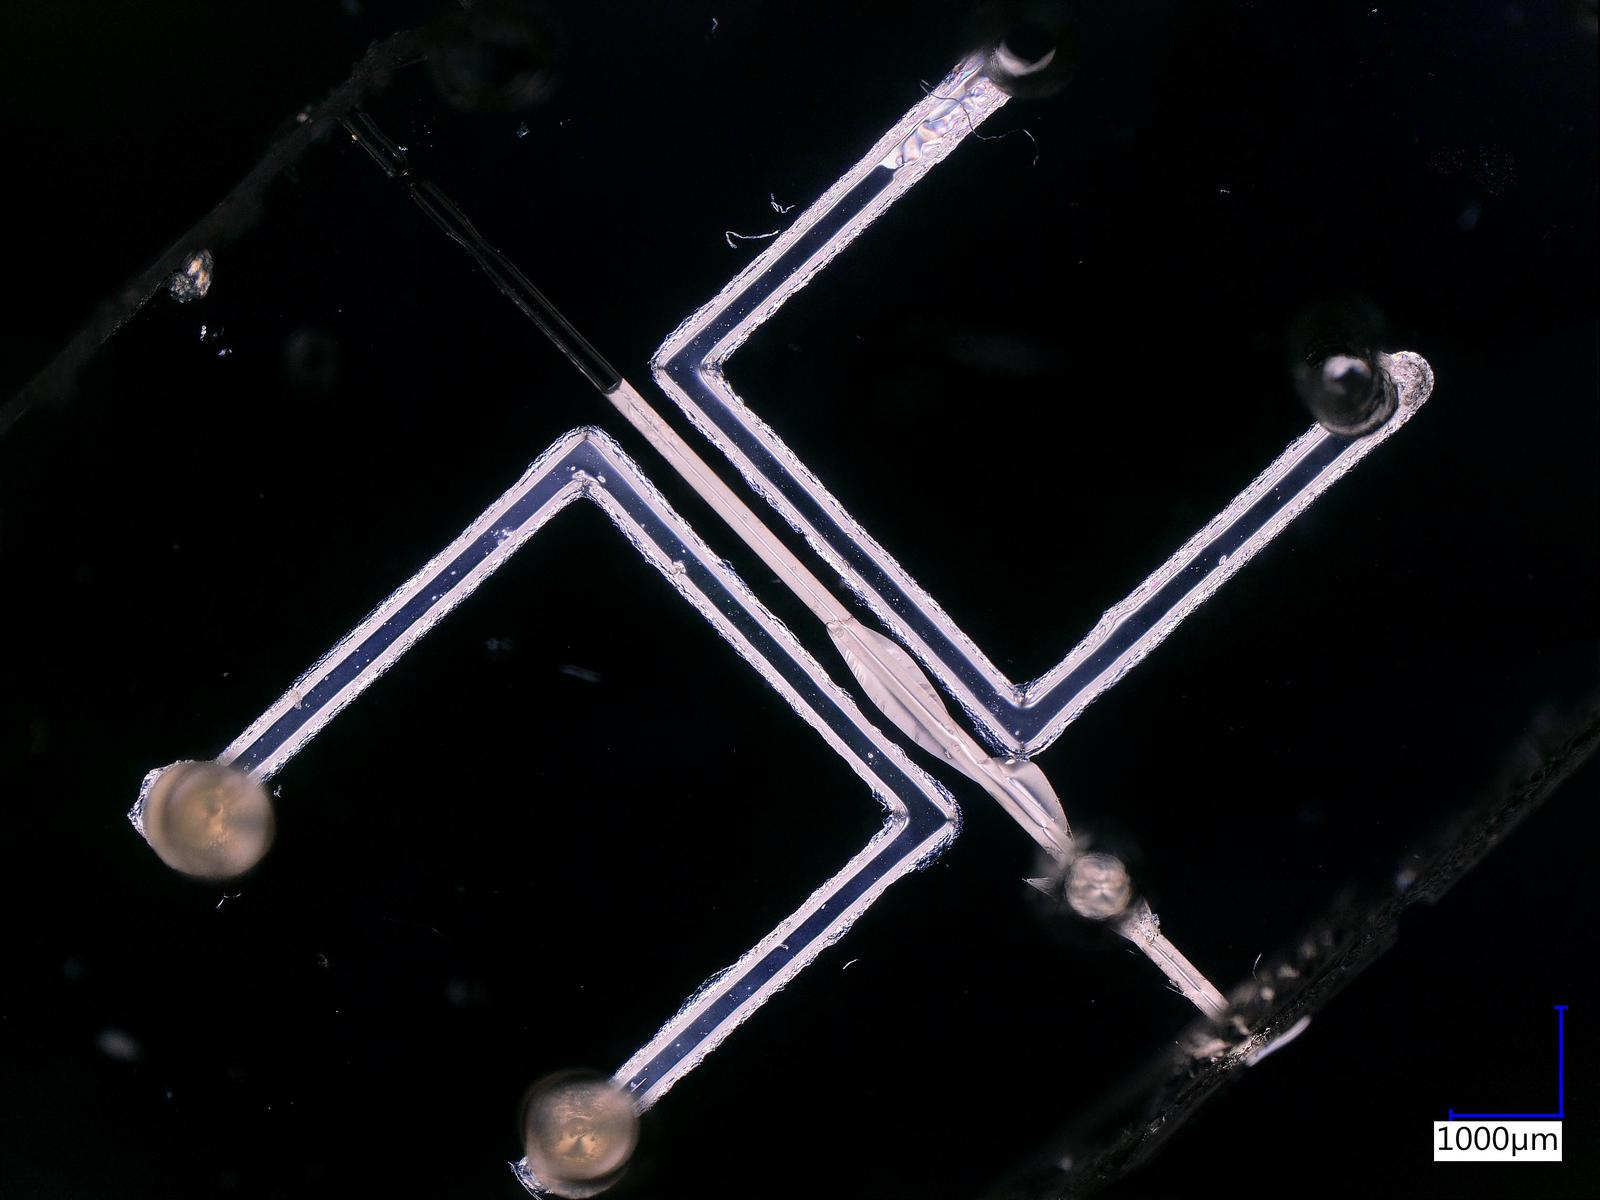sediment: (1398, 355, 1431, 410)
